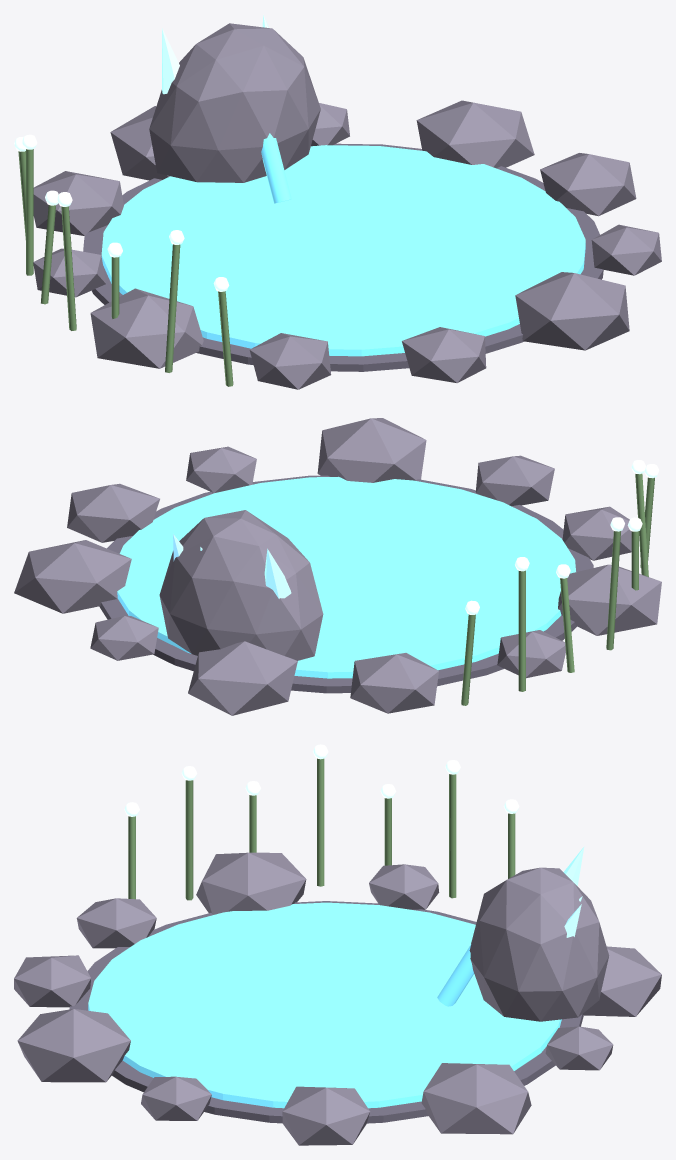
The model's file is misty_spring.glb.
3 renders of one model, top to bottom at view 1: azimuth 30°, elevation 25°; view 2: azimuth 150°, elevation 25°; view 3: azimuth 270°, elevation 25°, orthographic. The views are drawn at different scales.
Visible parts, largest first — view 1: Spring.001; view 2: Spring.001; view 3: Spring.001.
Boxes of the visible parts, x1,y1,x2,y2 form: Spring.001: [14, 15, 661, 389]; Spring.001: [14, 418, 661, 715]; Spring.001: [14, 744, 661, 1145].
Bounding box in the file's own units: 4.1 × 1.04 × 4.08.
